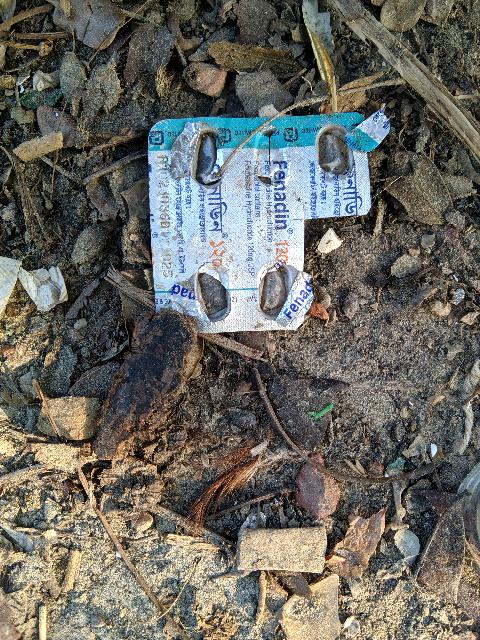medicine: (125, 86, 412, 346)
